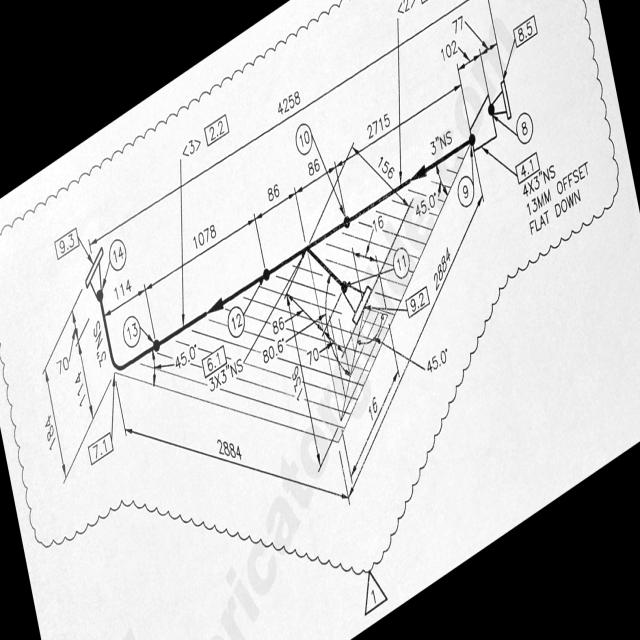Item number: (85, 428, 115, 470), (52, 220, 81, 262), (363, 579, 392, 620), (201, 108, 231, 147), (512, 8, 539, 51), (405, 280, 433, 321), (513, 148, 541, 187), (201, 346, 229, 381)
Measrement: (82, 0, 474, 255), (347, 185, 486, 507), (121, 421, 350, 505), (331, 60, 463, 177), (143, 204, 259, 296), (283, 287, 325, 480), (347, 362, 401, 504), (350, 131, 416, 216), (36, 357, 72, 501), (368, 325, 452, 380), (289, 141, 337, 204), (251, 170, 298, 233), (70, 336, 97, 440), (450, 10, 499, 60), (53, 301, 81, 382), (516, 156, 562, 203), (350, 210, 386, 270), (206, 350, 247, 399), (438, 33, 483, 75), (409, 178, 451, 223), (153, 341, 210, 372), (101, 273, 137, 314), (259, 333, 288, 373), (91, 312, 108, 374), (426, 124, 454, 159), (271, 310, 299, 337), (394, 0, 431, 19), (305, 343, 322, 374)
Pipeline: (99, 136, 470, 375)
Symbol: (339, 279, 371, 324), (486, 76, 515, 124), (82, 244, 105, 304), (205, 292, 226, 318), (411, 162, 429, 188)
Weld number: (514, 107, 535, 146), (121, 312, 142, 349), (294, 119, 314, 157), (227, 302, 246, 338), (109, 235, 127, 273), (392, 247, 412, 280)
other: (522, 148, 605, 245)
